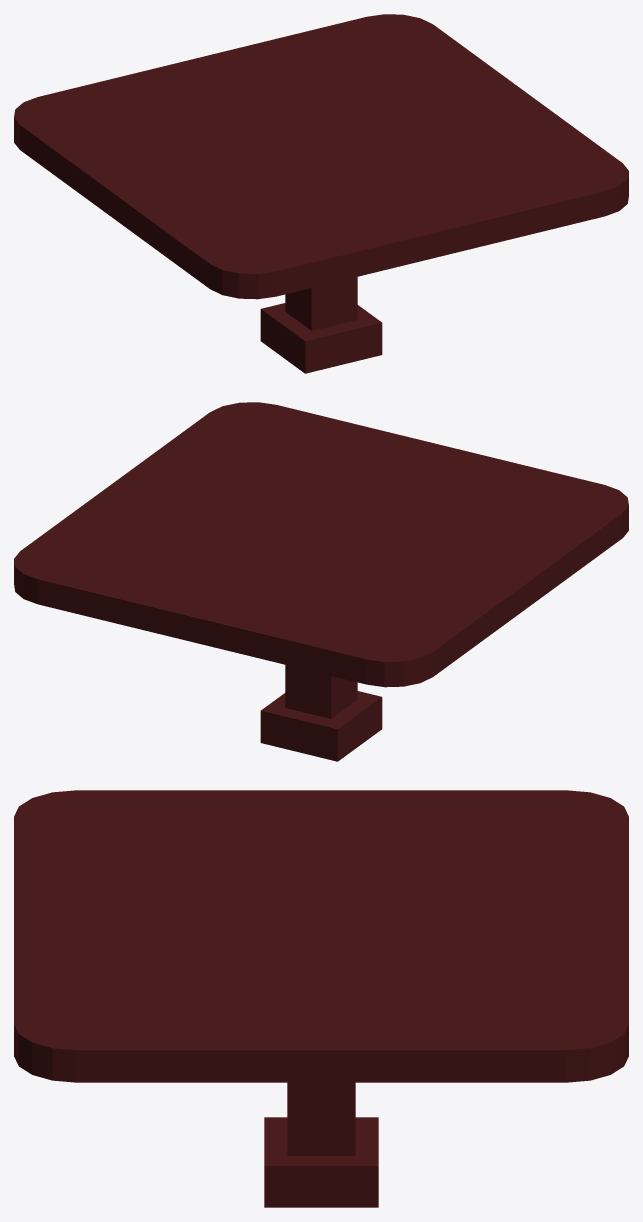
Rendered from Table.fbx.
3 renders of one model, top to bottom at view 1: azimuth 30°, elevation 25°; view 2: azimuth 150°, elevation 25°; view 3: azimuth 270°, elevation 25°, orthographic. The views are drawn at different scales.
Visible parts, largest first — view 1: Cube; view 2: Cube; view 3: Cube.
Part boxes in pixels (<box>): Cube: <box>14,14,628,373</box>; Cube: <box>14,402,628,761</box>; Cube: <box>14,790,628,1207</box>.
Size of the model in its own units: 373 by 176 by 373.
